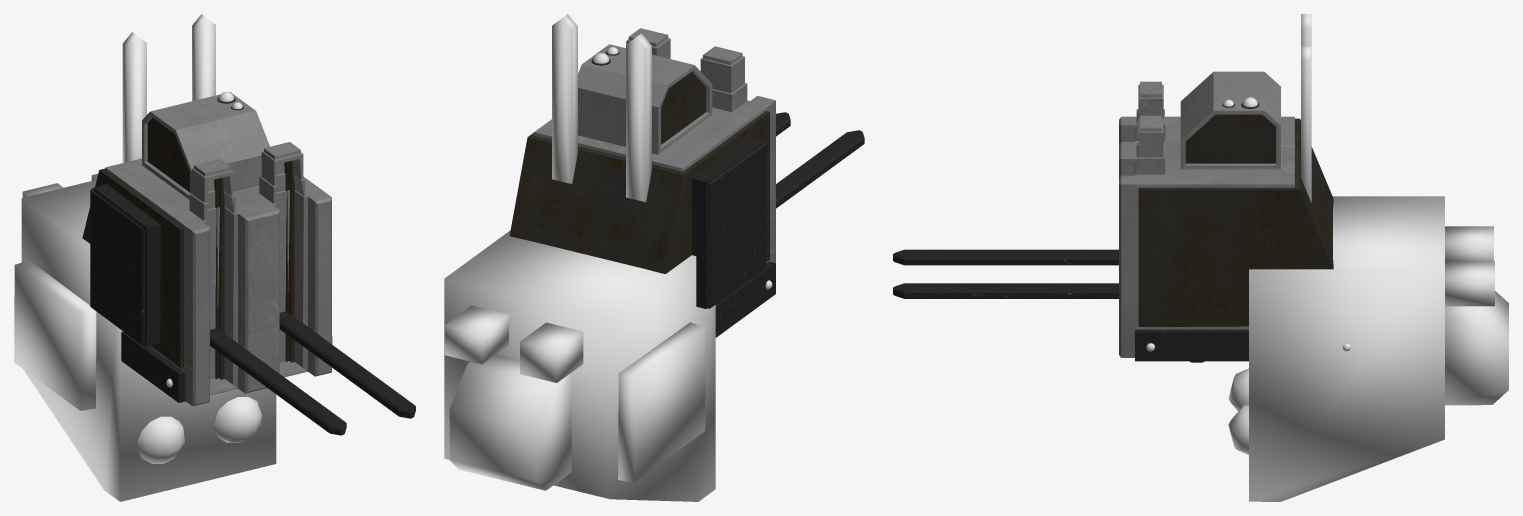
Rendered from SM_Pallet_Truck_01.fbx.
3 renders of one model, left to right at view 1: azimuth 30°, elevation 25°; view 2: azimuth 150°, elevation 25°; view 3: azimuth 270°, elevation 25°, orthographic. The views are drawn at different scales.
Visible parts, largest first — view 1: SM_Pallet_Truck_01, SM_Pallet_Truck_01_ConvexHulls; view 2: SM_Pallet_Truck_01_ConvexHulls, SM_Pallet_Truck_01; view 3: SM_Pallet_Truck_01_ConvexHulls, SM_Pallet_Truck_01.
Part boxes in pixels (bbox=[...]): SM_Pallet_Truck_01: bbox=[82, 92, 415, 435]; SM_Pallet_Truck_01_ConvexHulls: bbox=[14, 14, 276, 501]; SM_Pallet_Truck_01_ConvexHulls: bbox=[444, 14, 715, 501]; SM_Pallet_Truck_01: bbox=[509, 28, 864, 337]; SM_Pallet_Truck_01_ConvexHulls: bbox=[1228, 14, 1508, 501]; SM_Pallet_Truck_01: bbox=[893, 71, 1350, 362].
Size of the model in its own units: 1.24 by 3 by 3.85.
